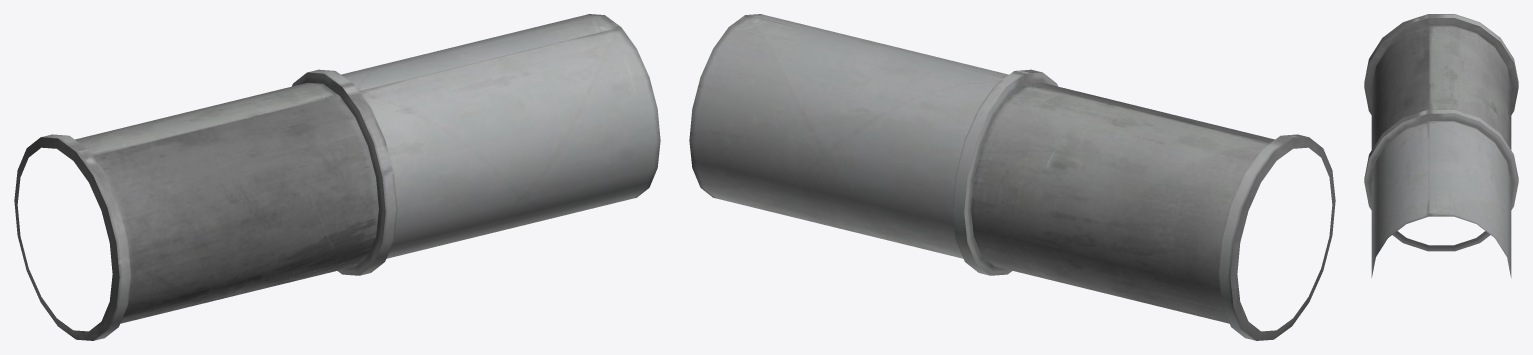
Rendered from SM_Vent_Rounded_16th_01.glb.
3 views of the same model, side by side, from view 1: azimuth 30°, elevation 25°; view 2: azimuth 150°, elevation 25°; view 3: azimuth 270°, elevation 25° (orthographic). The views are drawn at different scales.
Parts seen in each view (by area): view 1: SM_Vent_Rounded_16th_01; view 2: SM_Vent_Rounded_16th_01; view 3: SM_Vent_Rounded_16th_01.
Boxes of the visible parts, left/top/right/bottom form: SM_Vent_Rounded_16th_01: left=14, top=14, right=660, bottom=340; SM_Vent_Rounded_16th_01: left=689, top=14, right=1335, bottom=340; SM_Vent_Rounded_16th_01: left=1364, top=14, right=1518, bottom=277.
Size of the model in its own units: 1 by 0.3275 by 0.3326.
1 material, 1 textured.
